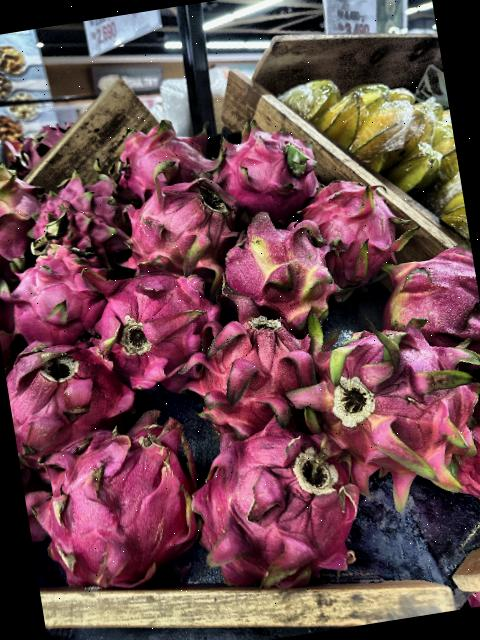buah-naga-belum-matang: (212, 205, 344, 336), (379, 239, 480, 349), (0, 160, 42, 262)
buah-naga-matang: (182, 399, 382, 608), (295, 309, 480, 513), (26, 417, 206, 600), (177, 294, 322, 442), (1, 330, 144, 470), (80, 251, 223, 389), (0, 236, 111, 348), (121, 168, 235, 277), (298, 168, 400, 286), (216, 120, 322, 220), (20, 168, 124, 258), (110, 120, 213, 196)
